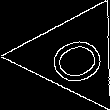O_NE: (35, 24, 110, 87)
